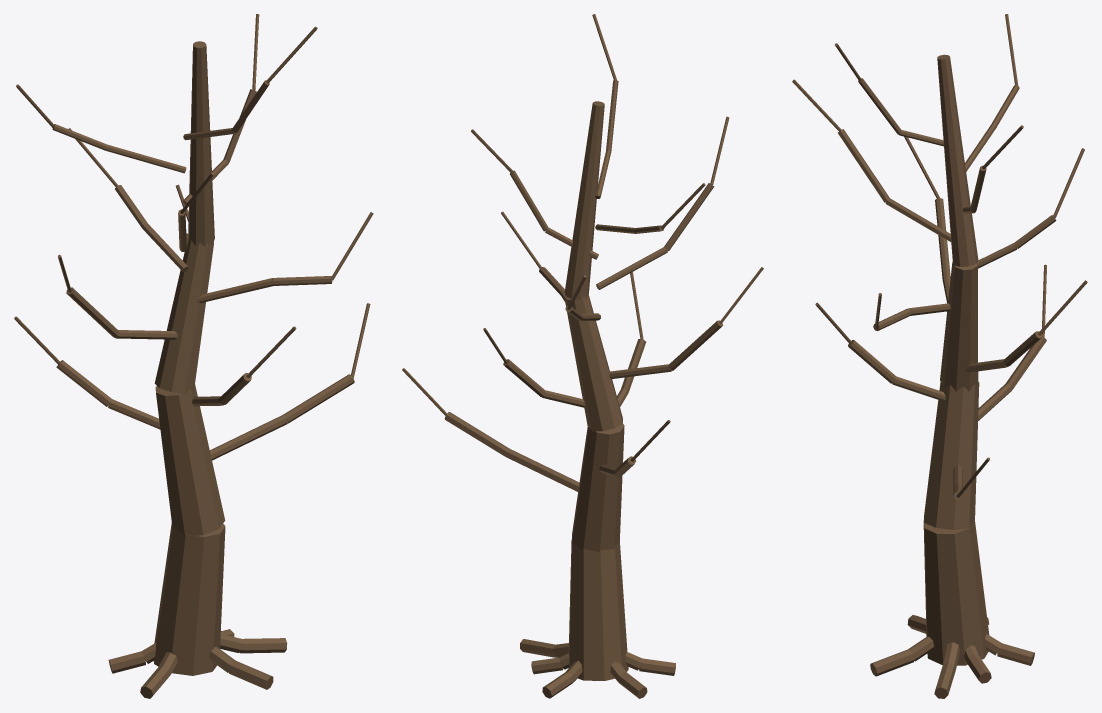
The model's file is tree_dead_low.glb.
The picture shows the model from 3 angles, left to right: view 1: azimuth 30°, elevation 25°; view 2: azimuth 150°, elevation 25°; view 3: azimuth 270°, elevation 25°; orthographic projection. The views are drawn at different scales.
Parts seen in each view (by area): view 1: tree_dead.001; view 2: tree_dead.001; view 3: tree_dead.001.
Part boxes in pixels (<box>): tree_dead.001: <box>14,14,373,698</box>; tree_dead.001: <box>402,14,763,698</box>; tree_dead.001: <box>792,14,1087,698</box>.
Size of the model in its own units: 5.41 by 9.73 by 4.04.
